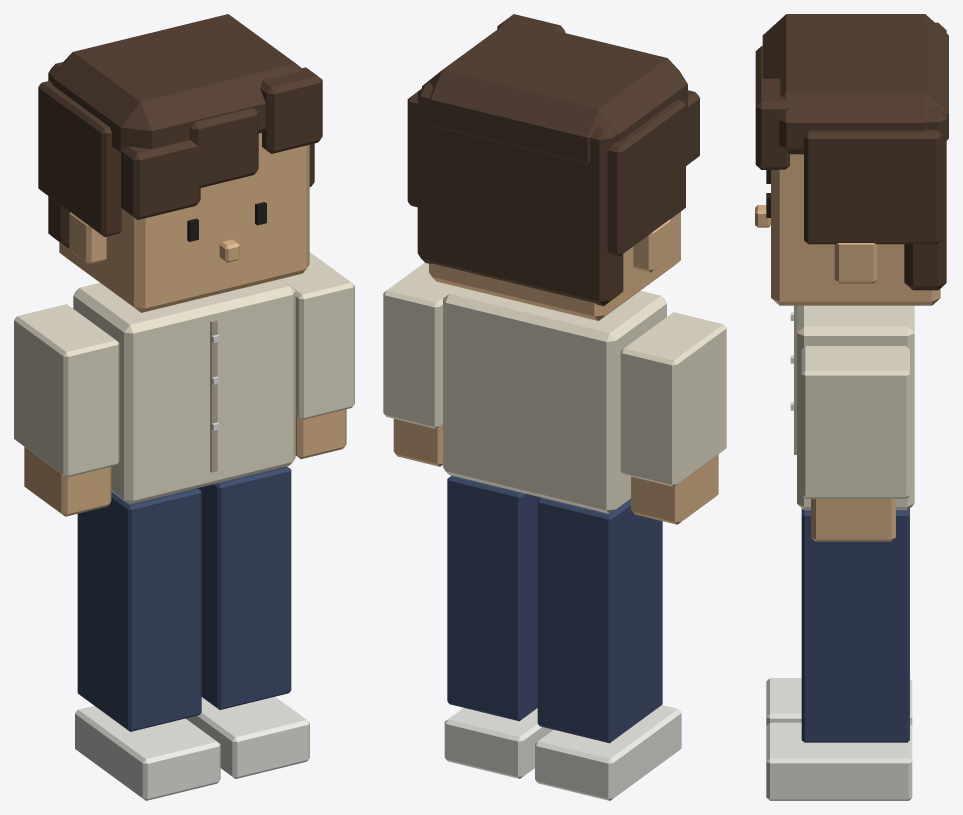
File: avatar.glb
3 renders of one model, left to right at view 1: azimuth 30°, elevation 25°; view 2: azimuth 150°, elevation 25°; view 3: azimuth 270°, elevation 25°, orthographic. The views are drawn at different scales.
Parts seen in each view (by area): view 1: Torso, LeftTrouser, Head, RightTrouser, HairCrown, LeftSleeve, SideHair, LeftShoe, RightSleeve, RightShoe, AngularFringe, AngularFringe.002 (+6 smaller); view 2: Torso, HairBack, LeftTrouser, HairCrown, RightTrouser, LeftSleeve, SideHair, RightSleeve, LeftShoe, RightShoe, Head, LeftHand (+4 smaller); view 3: RightTrouser, HairCrown, RightSleeve, SideHair.001, Head, RightShoe, Torso, RightHand, HairBack, AngularFringe.002, LeftShoe, Ear.001 (+1 smaller).
Boxes of the visible parts, box(x1,y1,x2,y2) form: Torso: box(73, 279, 295, 504); LeftTrouser: box(77, 488, 201, 731); Head: box(59, 133, 309, 312); RightTrouser: box(198, 466, 291, 709); HairCrown: box(52, 14, 301, 152); LeftSleeve: box(14, 304, 119, 477); SideHair: box(38, 81, 121, 236); LeftShoe: box(75, 705, 220, 800); RightSleeve: box(280, 252, 354, 419); RightShoe: box(186, 696, 309, 778); AngularFringe: box(121, 140, 200, 219); AngularFringe.002: box(260, 67, 322, 153); Torso: box(443, 287, 666, 513); HairBack: box(417, 82, 623, 306); LeftTrouser: box(537, 497, 662, 743); HairCrown: box(422, 20, 687, 163); RightTrouser: box(447, 475, 541, 721); LeftSleeve: box(620, 312, 726, 486); SideHair: box(607, 99, 685, 256); RightSleeve: box(383, 262, 457, 428); LeftShoe: box(535, 705, 681, 800); RightShoe: box(444, 708, 553, 778); Head: box(429, 211, 680, 320); LeftHand: box(631, 454, 718, 524); RightTrouser: box(801, 508, 909, 742); HairCrown: box(762, 14, 948, 154); RightSleeve: box(801, 346, 909, 498); SideHair.001: box(804, 129, 940, 244); Head: box(771, 154, 940, 305); RightShoe: box(766, 722, 912, 800); Torso: box(797, 305, 914, 510); RightHand: box(811, 498, 895, 541); HairBack: box(904, 22, 946, 290); AngularFringe.002: box(755, 78, 789, 169); LeftShoe: box(766, 678, 912, 725); Ear.001: box(834, 243, 876, 283).
Bounding box in the file's own units: 0.73 × 1.66 × 0.4115.
